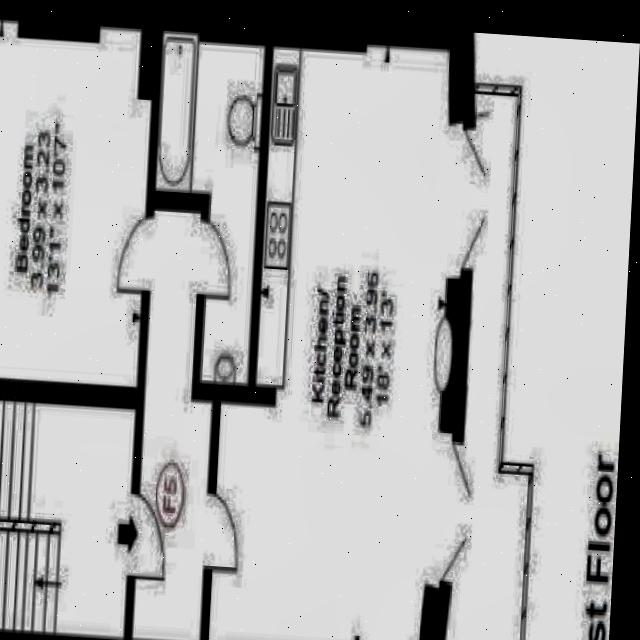room: (209, 39, 458, 640), (0, 20, 154, 386), (144, 31, 266, 383), (132, 210, 222, 640), (24, 405, 135, 637)
